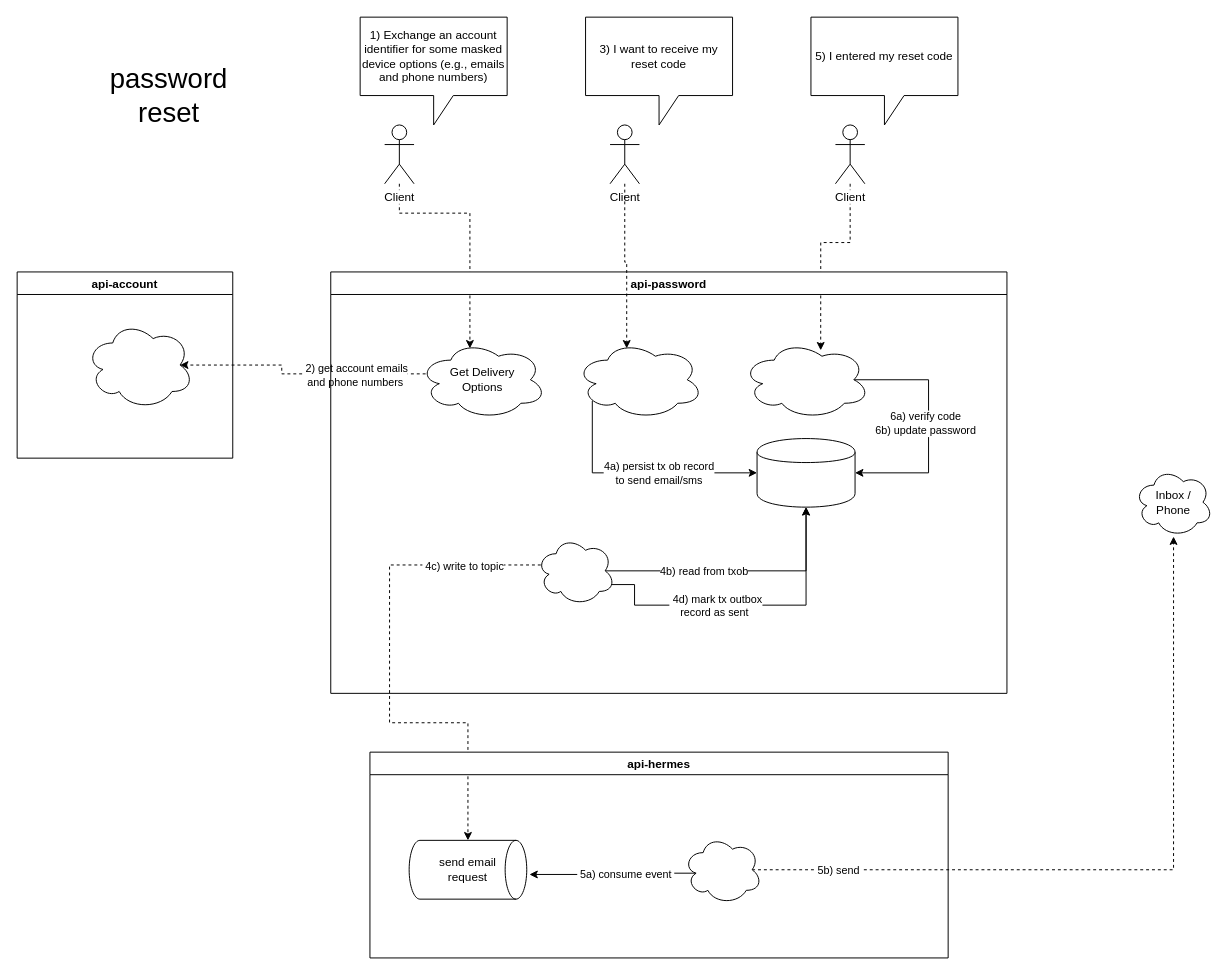
This 1230x975 diagram has some shape labels left out. The shapes that lost their labels are listed below. From the top down, each one's centre as x and y in pixels, then its label:
the point at 139,364: GetAccount
the point at 639,379: Deliver Code
the point at 805,379: Verify Code
the point at 805,472: db
the point at 575,570: message relay
the point at 722,869: consumer
